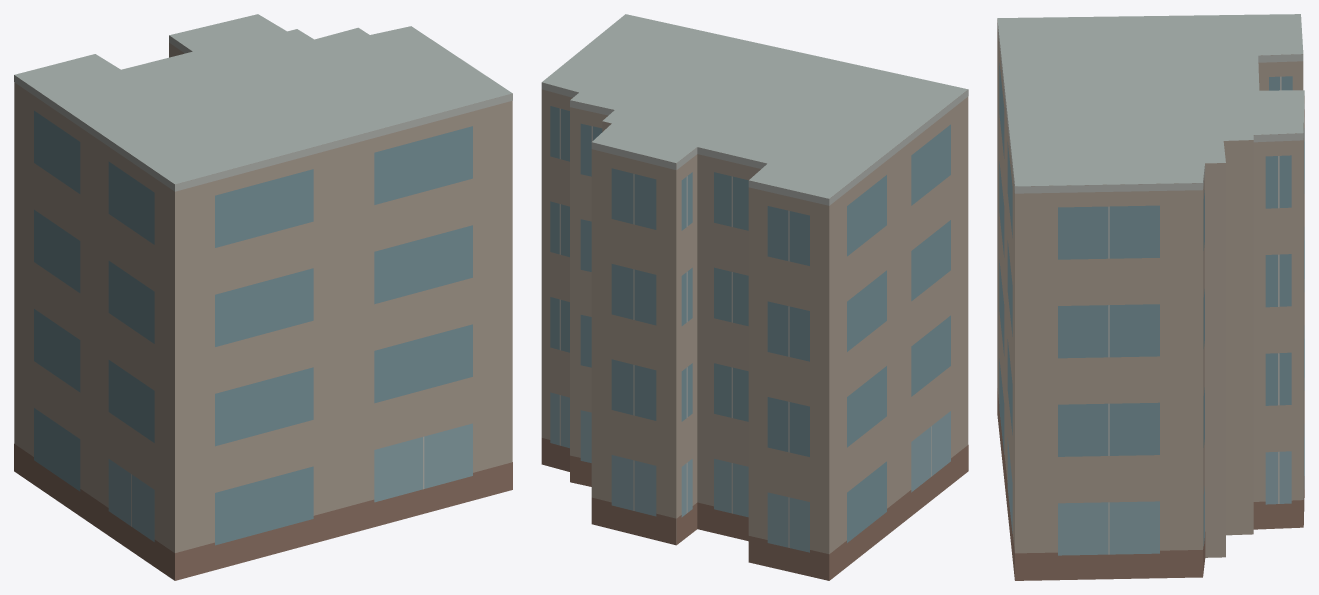
Rendered from survey-upis-32681793.glb.
The picture shows the model from 3 angles, left to right: view 1: azimuth 30°, elevation 25°; view 2: azimuth 150°, elevation 25°; view 3: azimuth 270°, elevation 25°; orthographic projection. The views are drawn at different scales.
Visible parts, largest first — view 1: survey-upis-32681793.tmp; view 2: survey-upis-32681793.tmp; view 3: survey-upis-32681793.tmp.
Boxes of the visible parts, box(x1,y1,x2,y2) form: survey-upis-32681793.tmp: box(14, 14, 512, 580); survey-upis-32681793.tmp: box(541, 14, 968, 580); survey-upis-32681793.tmp: box(997, 14, 1304, 580).
Bounding box in the file's own units: 12.48 × 13.3 × 9.4.
